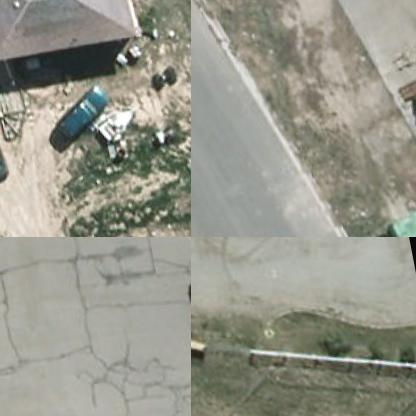car: (47, 76, 114, 142)
